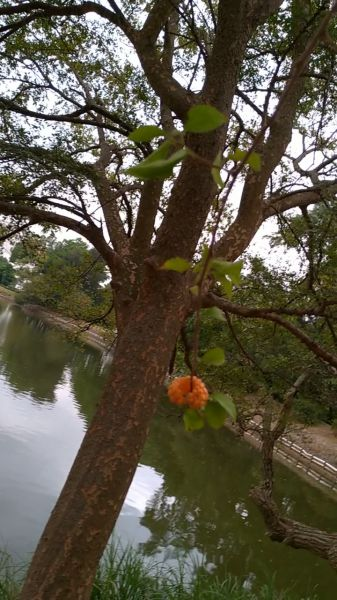eggs: (168, 369, 211, 414)
